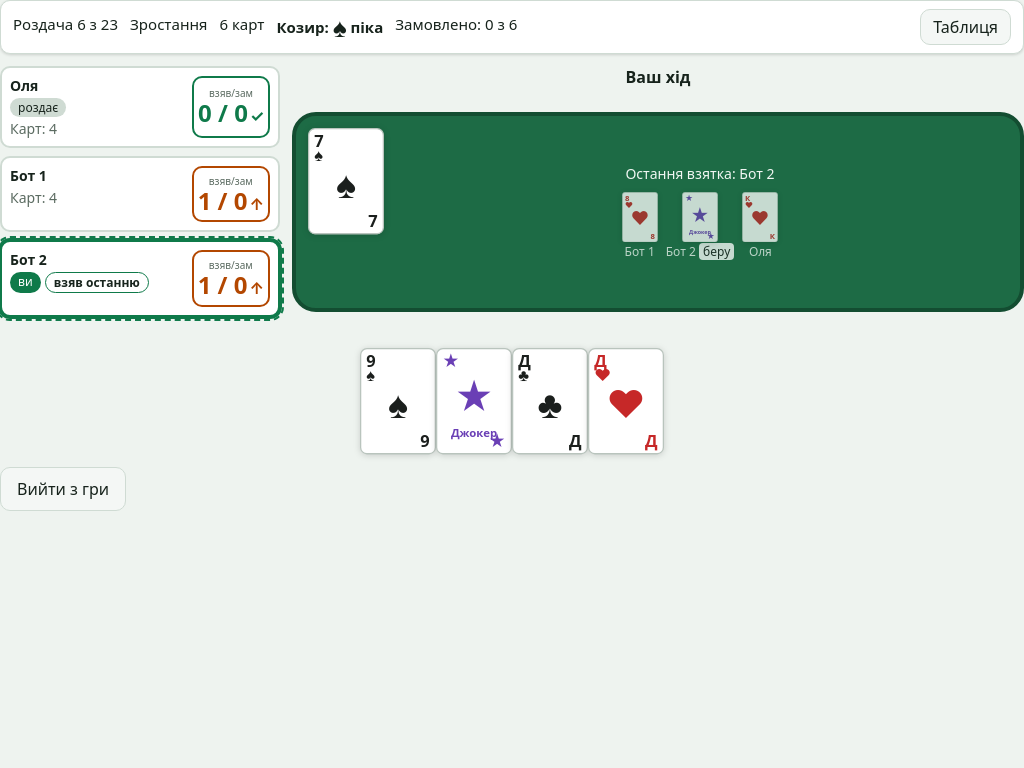
Test: діалоги джокера › R-6.1, R-6.2, R-6.3: на заході з козирем — старший козир, старша некозирна, маленька будь-яка
This screenshot has width=1024, height=768.
Click the button "★ ★ Джокер ★" at [474, 402], box [436,348,512,455]
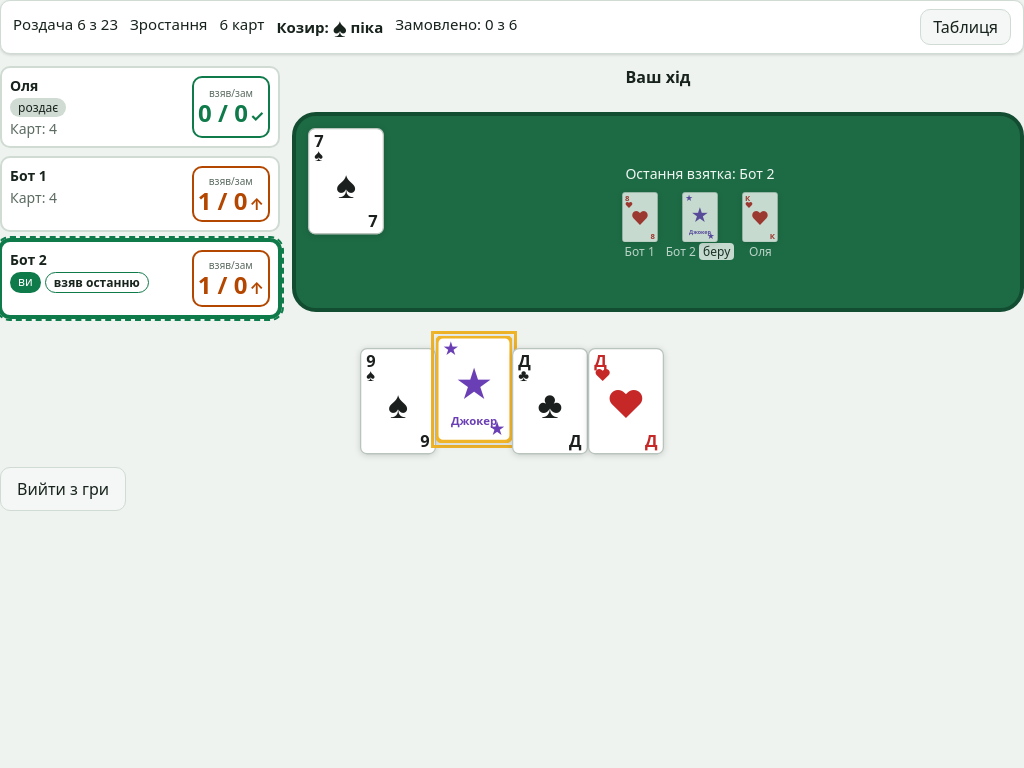
Click the button "★ ★ Джокер ★" at [474, 390], box [436,336,512,443]
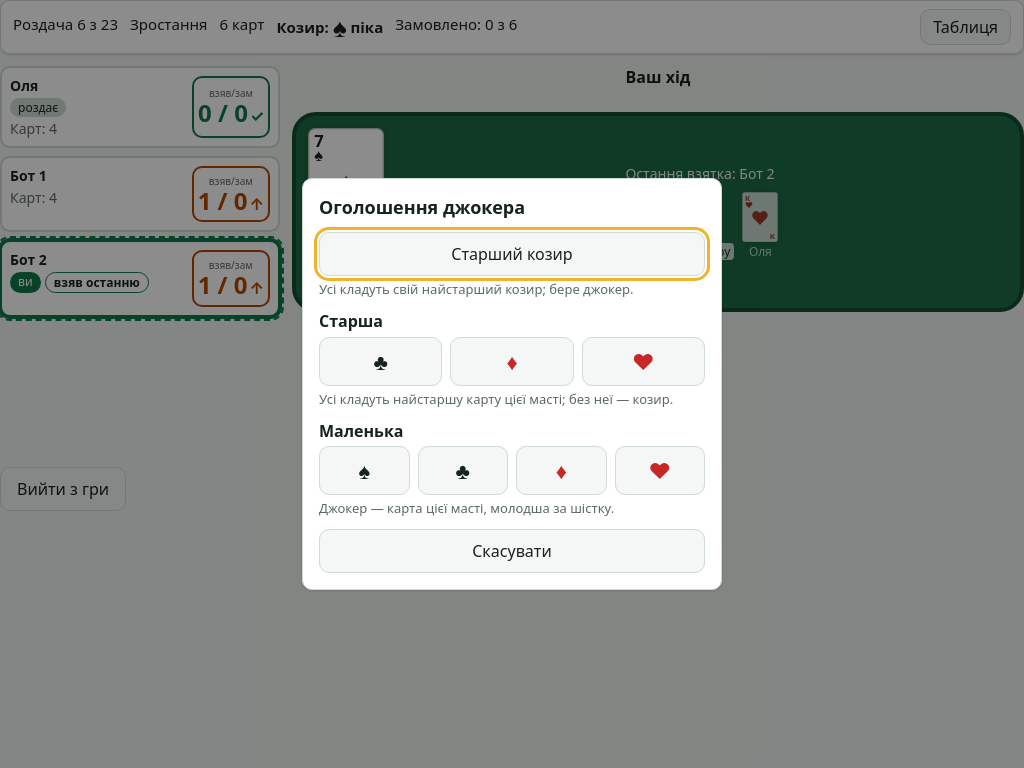
Click the button "♠︎" at [364, 470], box [319,446,410,495]
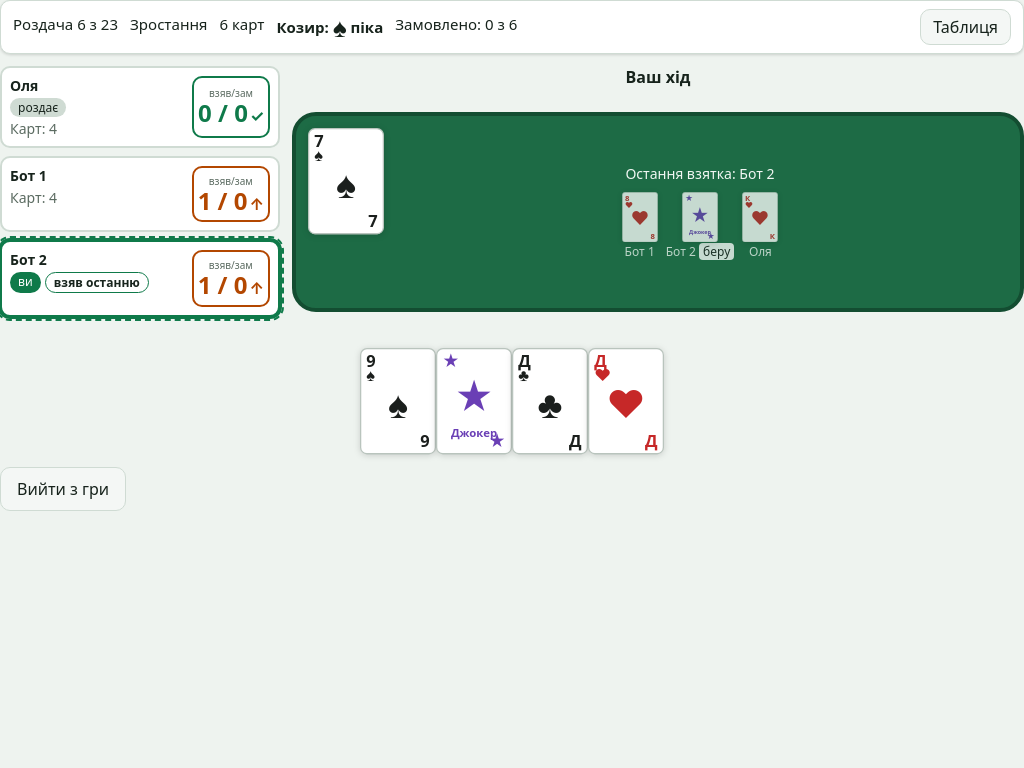
Check: the dialog is gone
